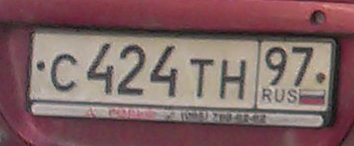character: (150, 42, 181, 98), (87, 41, 116, 98), (117, 41, 147, 96), (217, 56, 249, 101), (49, 52, 79, 92), (188, 57, 215, 100), (289, 43, 314, 87), (264, 45, 289, 88)
